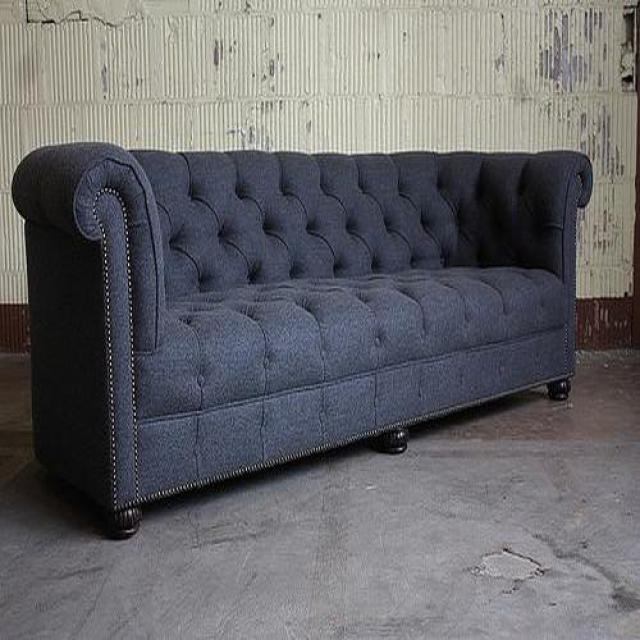sofa: (10, 142, 594, 541)
